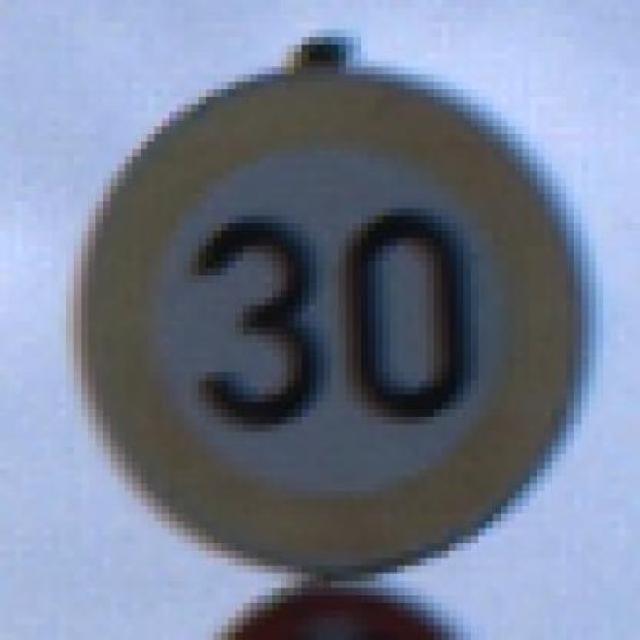Speed Limit 30 KMPh: (37, 60, 626, 603)
